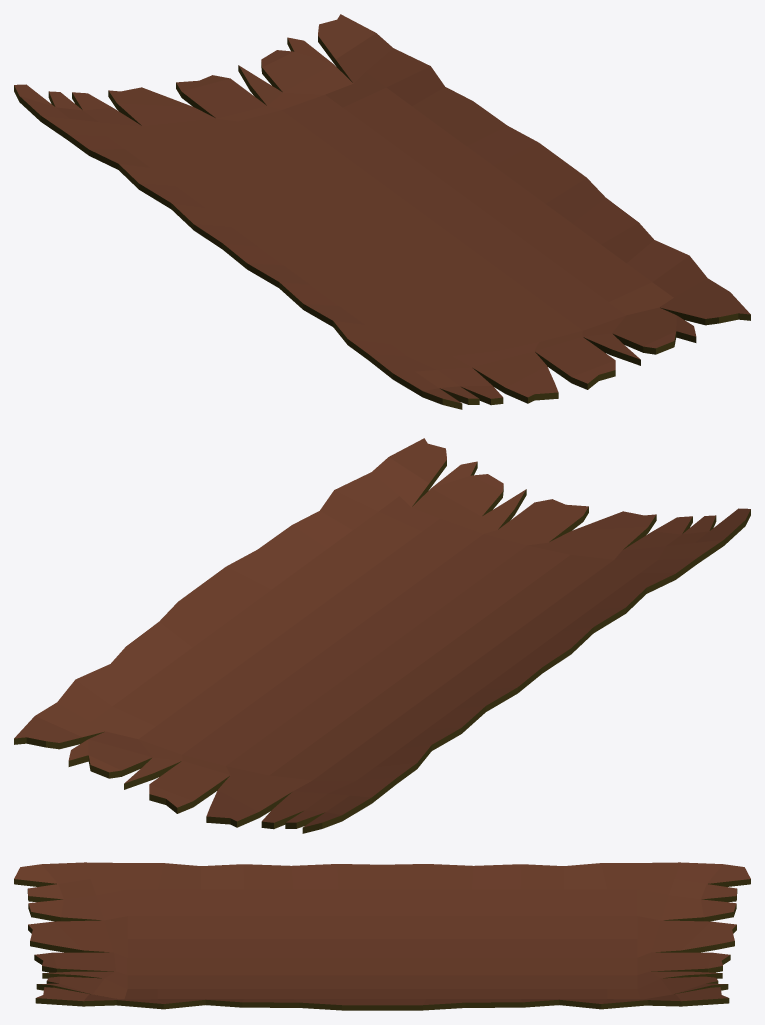
The model's file is spruceBark_bad.fbx.
3 views of the same model, one above another, from view 1: azimuth 30°, elevation 25°; view 2: azimuth 150°, elevation 25°; view 3: azimuth 270°, elevation 25° (orthographic). The views are drawn at different scales.
Parts seen in each view (by area): view 1: Plane; view 2: Plane; view 3: Plane.
Boxes of the visible parts, bbox=[...] form: Plane: bbox=[14, 14, 750, 409]; Plane: bbox=[14, 438, 750, 833]; Plane: bbox=[14, 862, 750, 1010].
Size of the model in its own units: 397 by 39.02 by 866.
